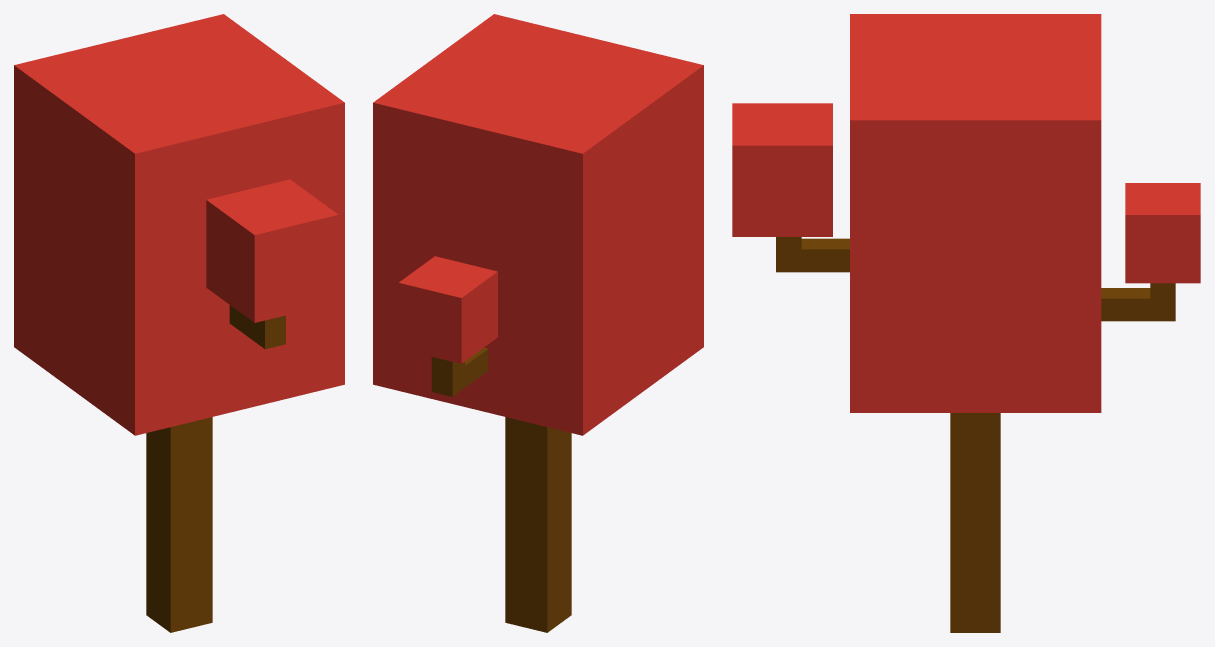
File: tree3.fbx
3 views of the same model, side by side, from view 1: azimuth 30°, elevation 25°; view 2: azimuth 150°, elevation 25°; view 3: azimuth 270°, elevation 25° (orthographic). The views are drawn at different scales.
Visible parts, largest first — view 1: tree.002; view 2: tree.002; view 3: tree.002.
Part boxes in pixels (left/top/right/bottom): tree.002: left=14, top=14, right=344, bottom=632; tree.002: left=373, top=14, right=703, bottom=632; tree.002: left=732, top=14, right=1200, bottom=632.
Size of the model in its own units: 500 by 1219 by 931.
